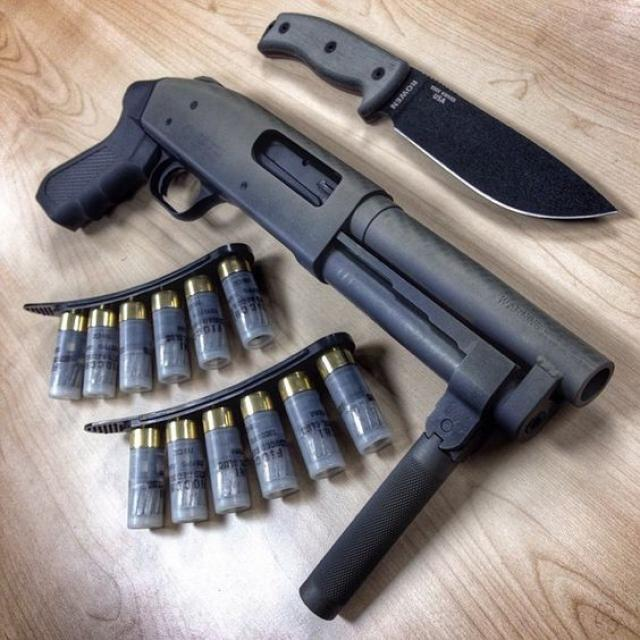shotgun: (36, 70, 606, 442)
